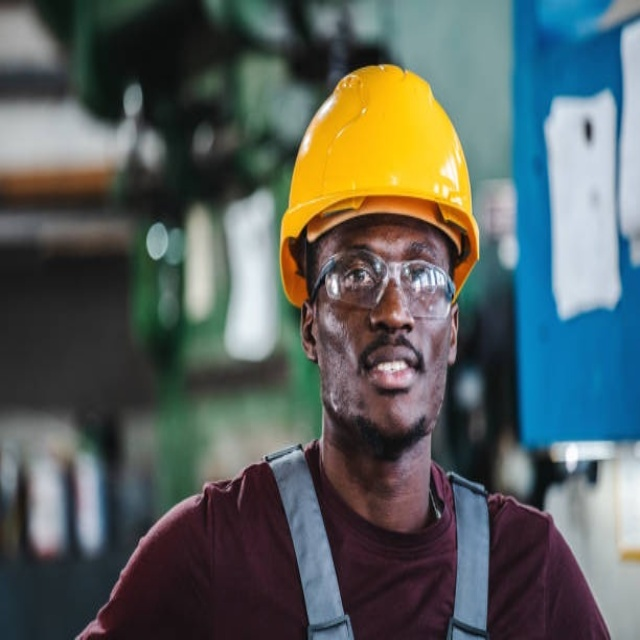Gafas: (309, 253, 459, 318)
Sin_mascara: (350, 334, 434, 408)
